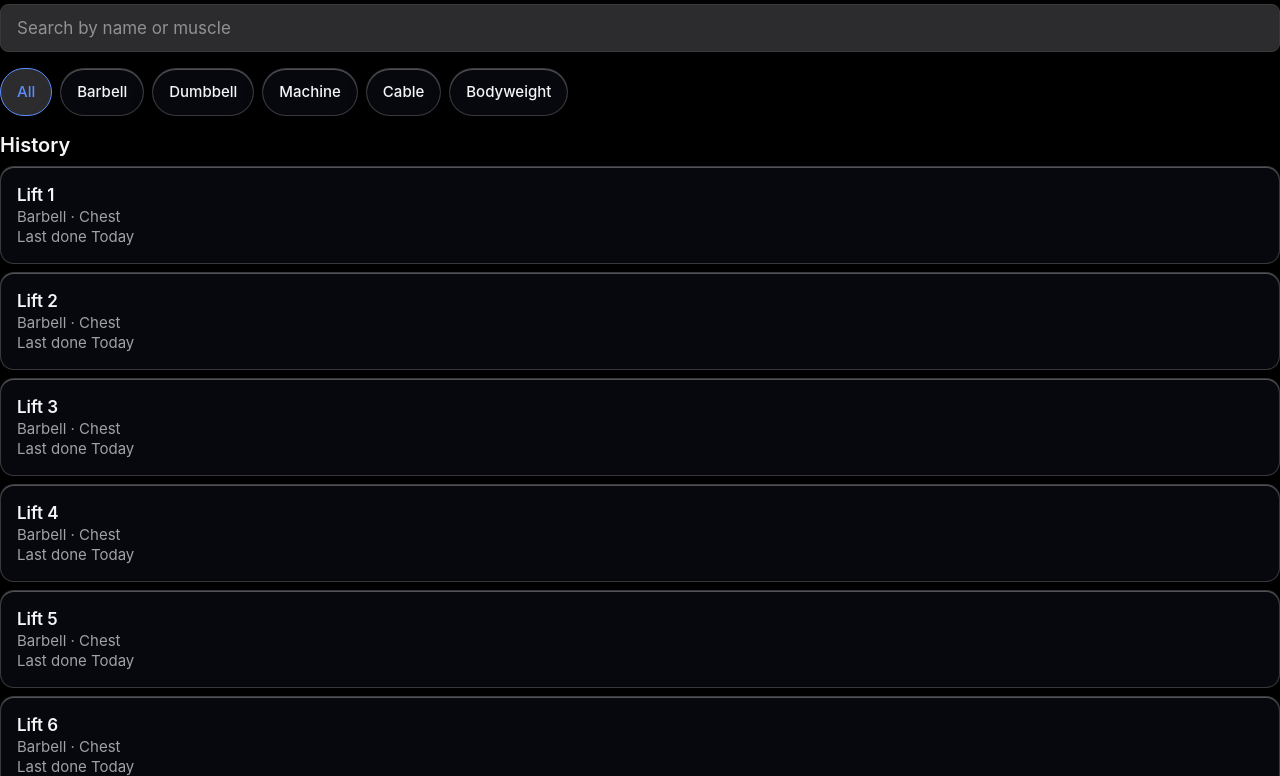
History while searching and filtering › goes away while a search is typed or an equipment chip is on, and comes back after clearing
This screenshot has width=1280, height=776.
In the search field labelled "Search exercises": (640, 28) top-left (0, 4), bottom-right (1279, 52), type "lift"
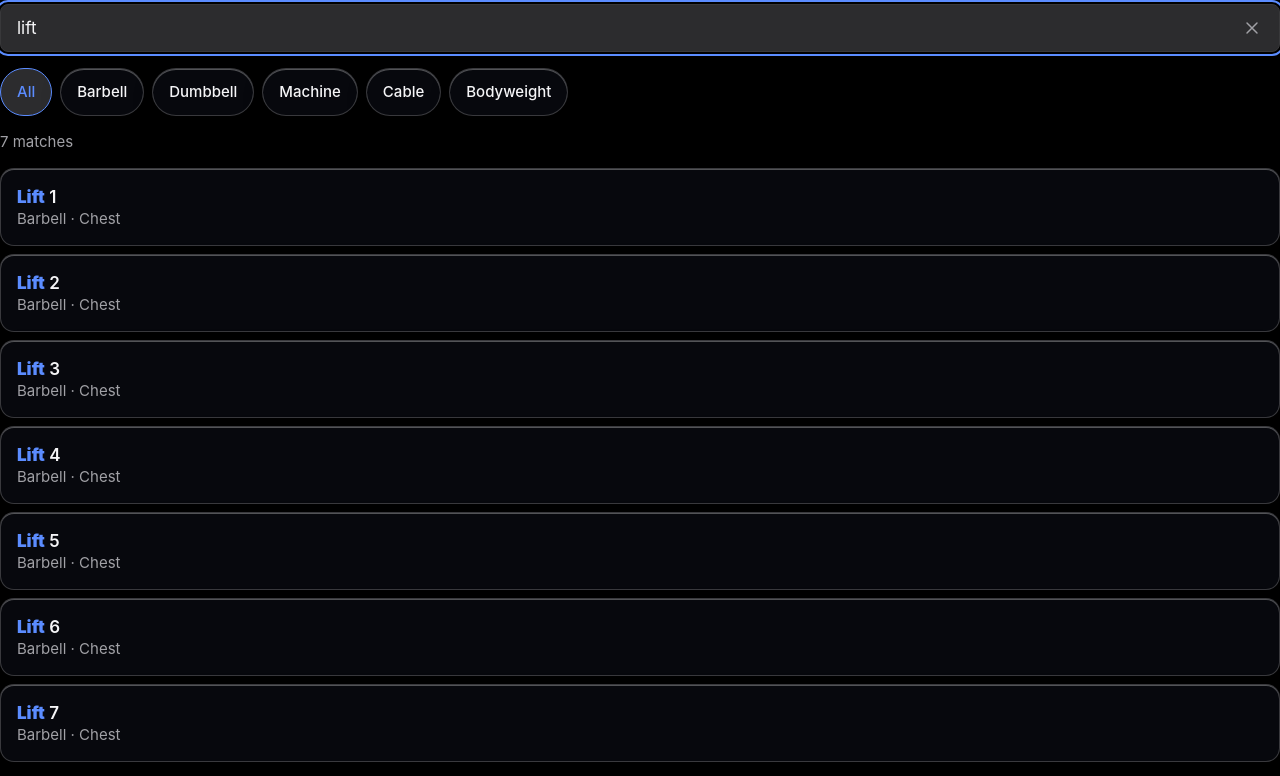
expect the heading "History" is gone: met
Click the button named "Clear search": (1252, 28) top-left (1228, 4), bottom-right (1276, 52)
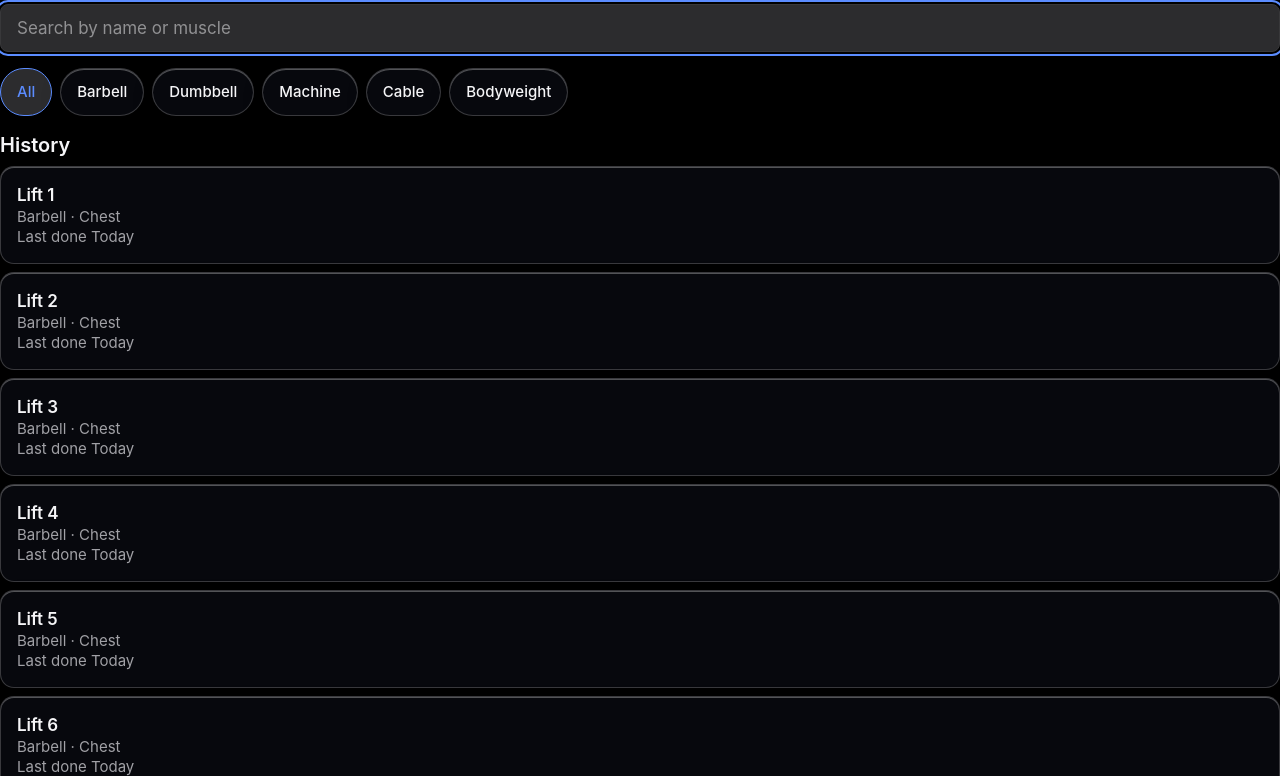
Click the button "Dumbbell": (203, 92) top-left (152, 68), bottom-right (254, 116)
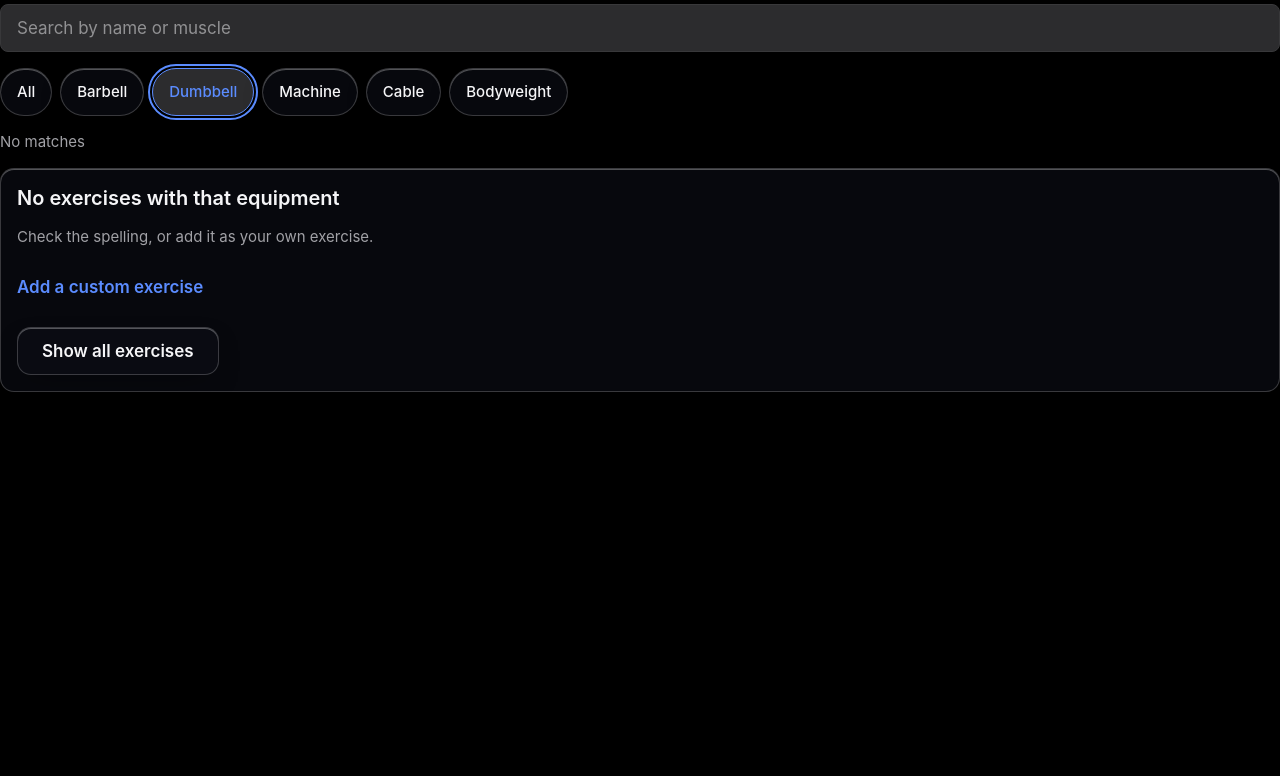
expect the heading "History" is gone: met
Click the button "All": (26, 92) top-left (0, 68), bottom-right (52, 116)
(page scrolled)
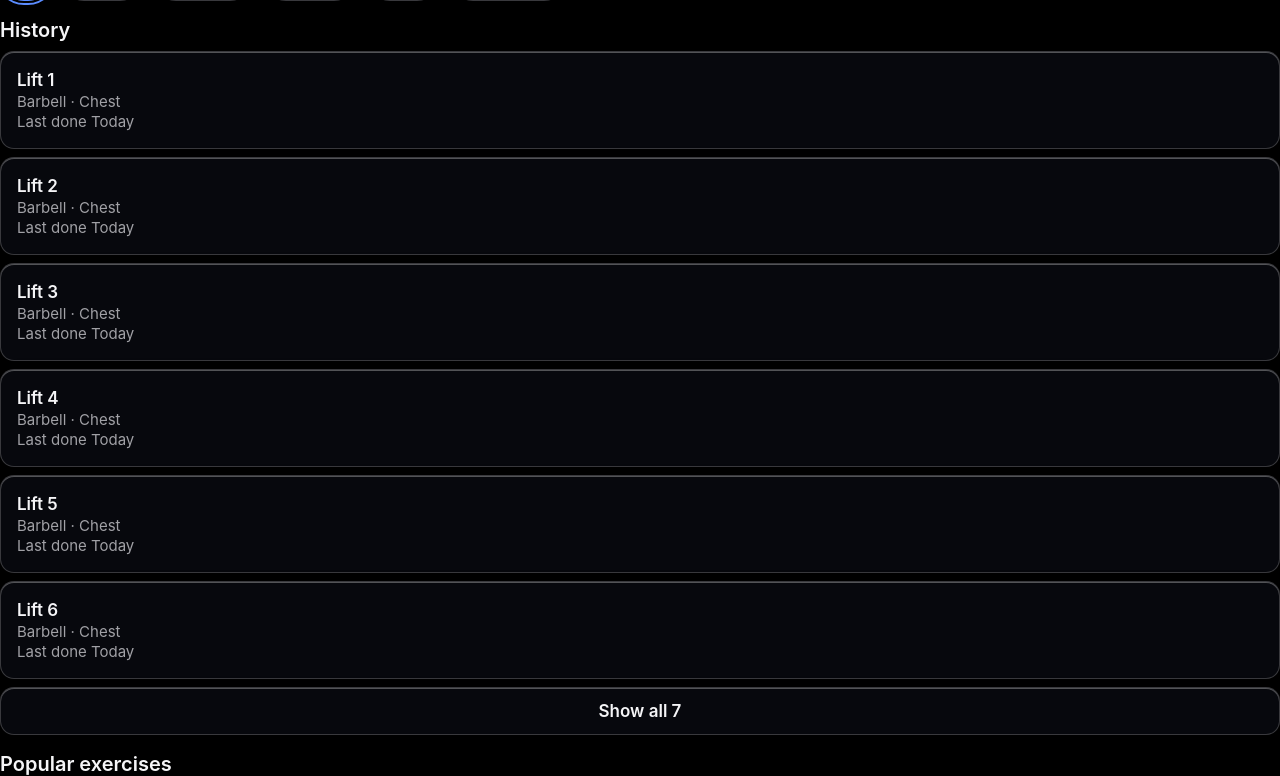
expect the element "History" is shown: met
